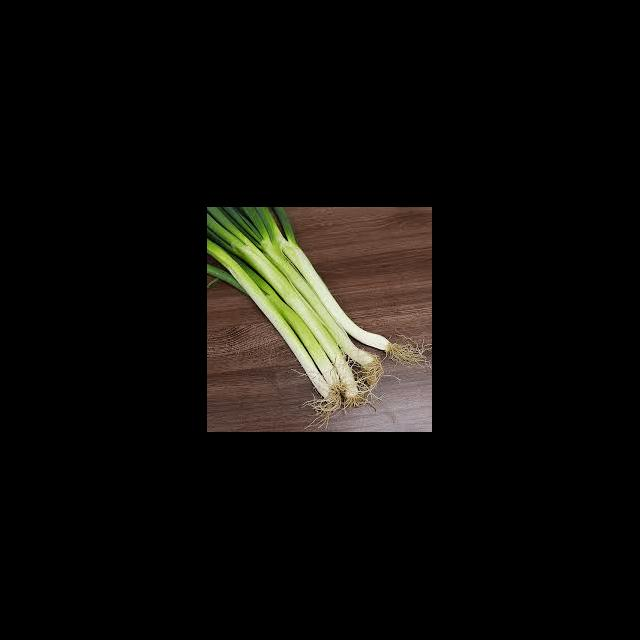green_onion: (208, 208, 392, 407)
